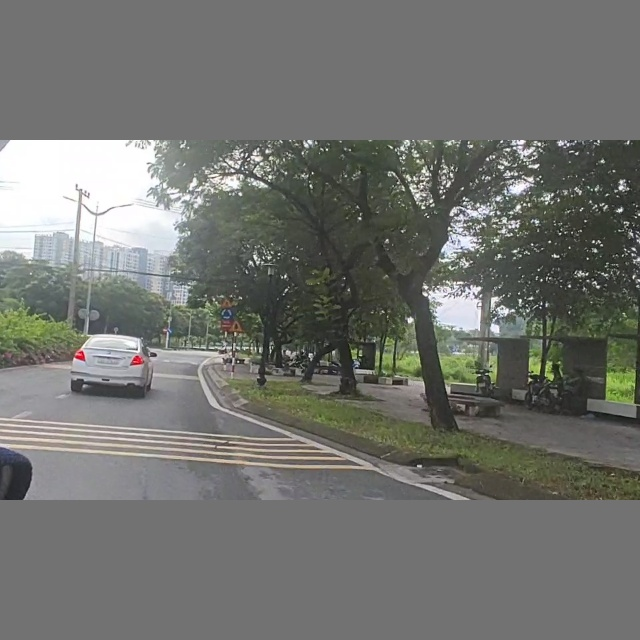P.102: (161, 327, 167, 333)
R.302a: (167, 327, 174, 334)
R.303: (220, 309, 234, 320)
W.207: (229, 319, 246, 333)
W.224: (221, 297, 233, 308)
